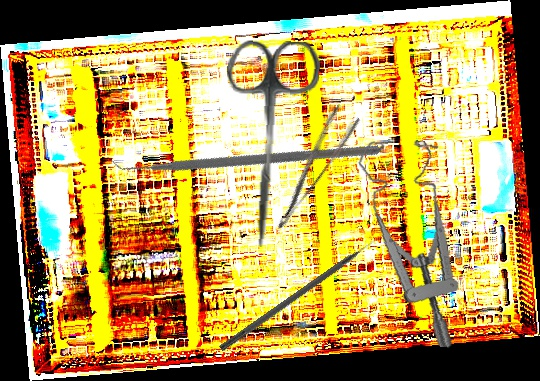Chopper: (106, 21, 382, 283)
Dressing Forceps: (257, 102, 363, 232)
Hook Surgical: (218, 235, 383, 354)
Iris Scissors: (218, 38, 321, 250)
Speculum: (334, 132, 481, 349)
